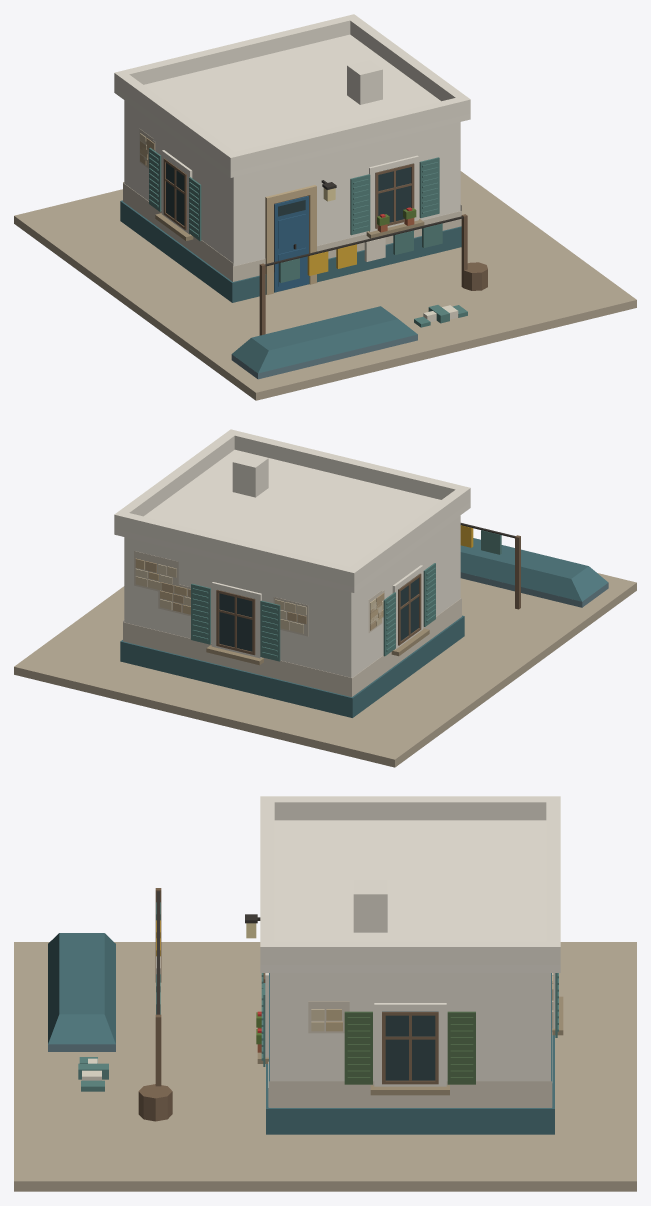
File: balikci-evi.glb
The picture shows the model from 3 angles, top to bottom: view 1: azimuth 30°, elevation 25°; view 2: azimuth 150°, elevation 25°; view 3: azimuth 270°, elevation 25°; orthographic projection. The views are drawn at different scales.
Visible parts, largest first — view 1: zemin, badana, dam, kepenk, kepenk2, badana_kir, ahsap, cam, mavi_kapi, tas2, deniz_ahsap, cicek2 (+3 smaller); view 2: zemin, badana, dam, kepenk, badana_kir, kepenk2, cam, ahsap, deniz_ahsap, tas1, tas_koyu, tas3 (+2 smaller); view 3: zemin, badana, dam, kepenk, badana_kir, yesil_kepenk, ahsap, cam, kepenk2, tas_koyu, demir.
Boxes of the visible parts, x1=… form: zemin: x1=14, y1=171, x2=636, y2=400; badana: x1=114, y1=14, x2=470, y2=266; dam: x1=114, y1=34, x2=470, y2=177; kepenk: x1=120, y1=200, x2=461, y2=373; kepenk2: x1=149, y1=147, x2=467, y2=327; badana_kir: x1=123, y1=129, x2=461, y2=281; ahsap: x1=163, y1=158, x2=487, y2=335; cam: x1=166, y1=161, x2=413, y2=225; mavi_kapi: x1=274, y1=196, x2=308, y2=292; tas2: x1=140, y1=147, x2=316, y2=294; deniz_ahsap: x1=231, y1=334, x2=417, y2=379; cicek2: x1=307, y1=244, x2=356, y2=275; zemin: x1=14, y1=573, x2=636, y2=767; badana: x1=114, y1=429, x2=470, y2=677; dam: x1=114, y1=449, x2=470, y2=592; kepenk: x1=120, y1=538, x2=608, y2=717; badana_kir: x1=123, y1=551, x2=461, y2=696; kepenk2: x1=191, y1=530, x2=501, y2=661; cam: x1=219, y1=574, x2=418, y2=651; ahsap: x1=216, y1=535, x2=520, y2=655; deniz_ahsap: x1=460, y1=572, x2=608, y2=607; tas1: x1=135, y1=566, x2=383, y2=630; tas_koyu: x1=206, y1=628, x2=429, y2=665; tas3: x1=145, y1=561, x2=384, y2=630; zemin: x1=14, y1=942, x2=636, y2=1191; badana: x1=260, y1=796, x2=560, y2=1086; dam: x1=260, y1=820, x2=560, y2=972; kepenk: x1=48, y1=933, x2=554, y2=1134; badana_kir: x1=268, y1=973, x2=552, y2=1107; yesil_kepenk: x1=344, y1=1011, x2=475, y2=1084; ahsap: x1=138, y1=888, x2=438, y2=1121; cam: x1=382, y1=1011, x2=438, y2=1080; kepenk2: x1=78, y1=902, x2=558, y2=1091; tas_koyu: x1=257, y1=996, x2=563, y2=1095; demir: x1=156, y1=891, x2=260, y2=1014.
Size of the model in its own units: 10 by 4.3 by 11.
